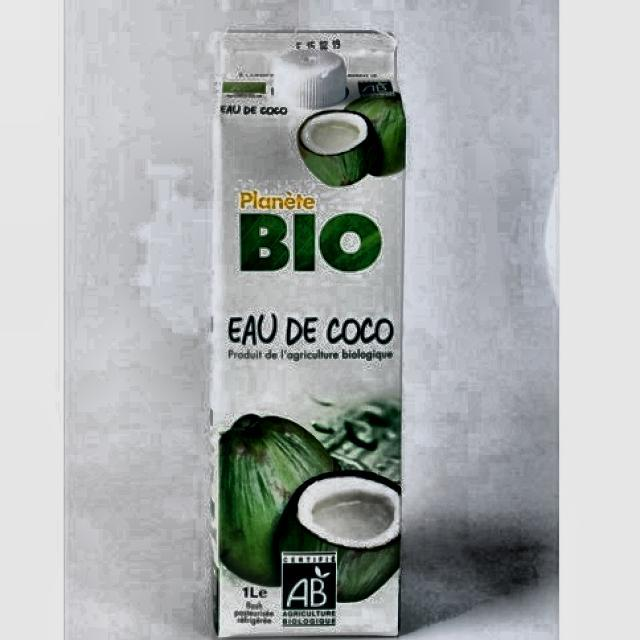cardboard: (209, 27, 406, 638)
